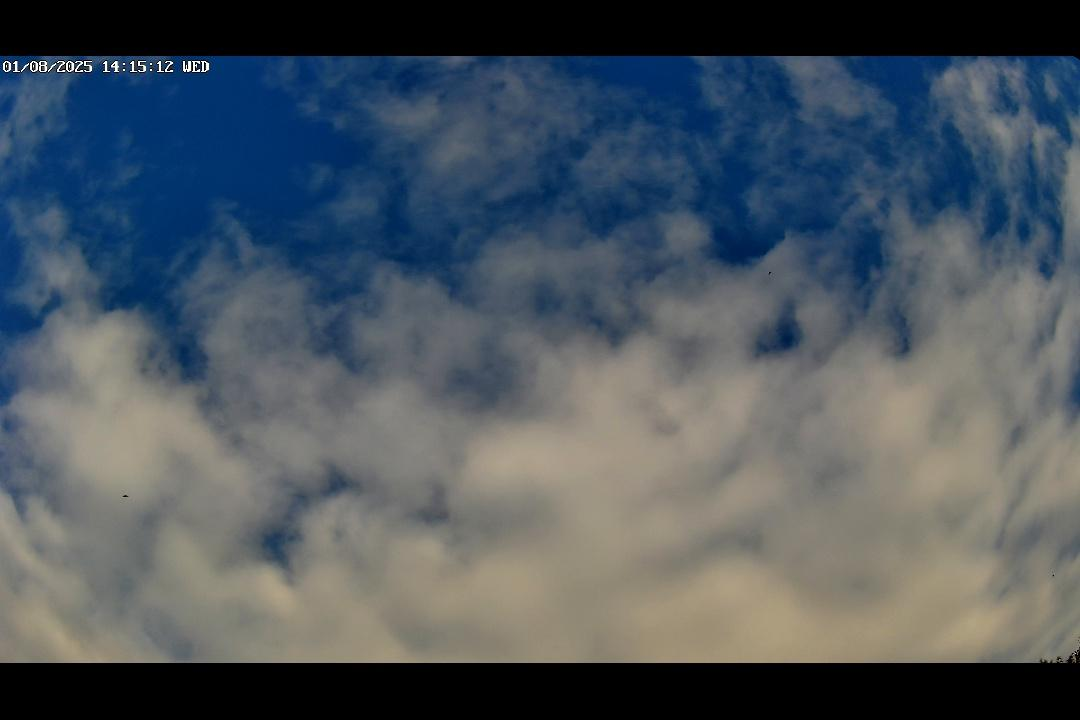WildLife: (762, 265, 778, 280), (117, 490, 132, 501), (1049, 570, 1059, 580)
